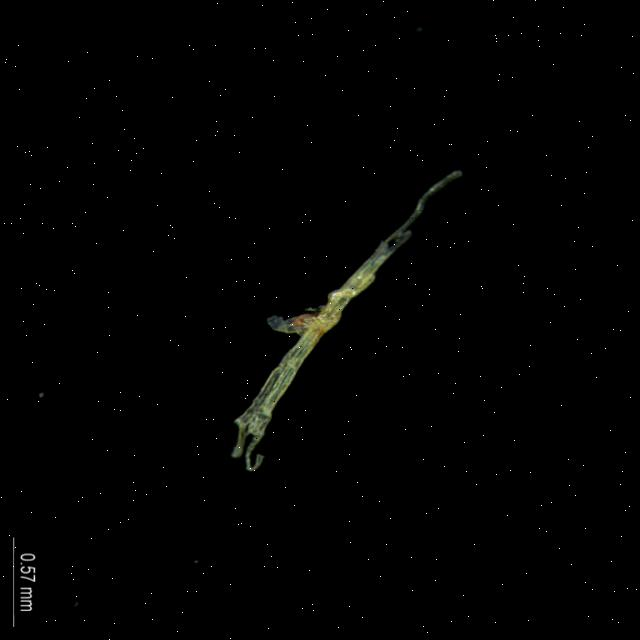Fibre: (224, 165, 466, 473)
